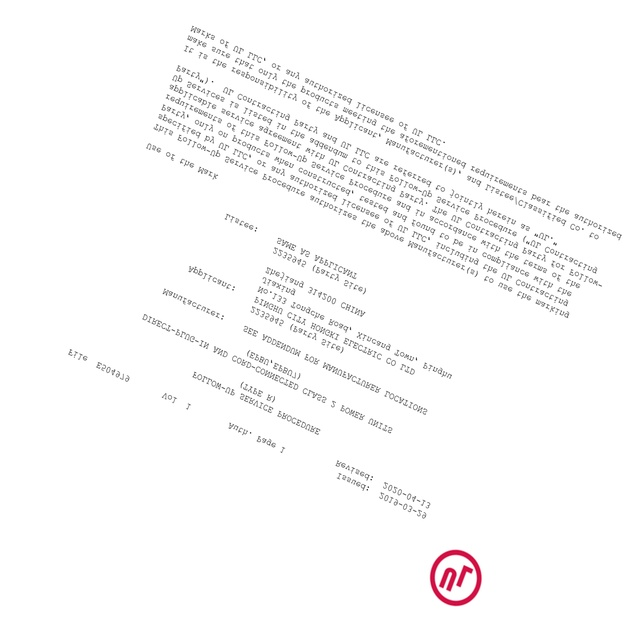ul: (429, 549, 482, 605)
